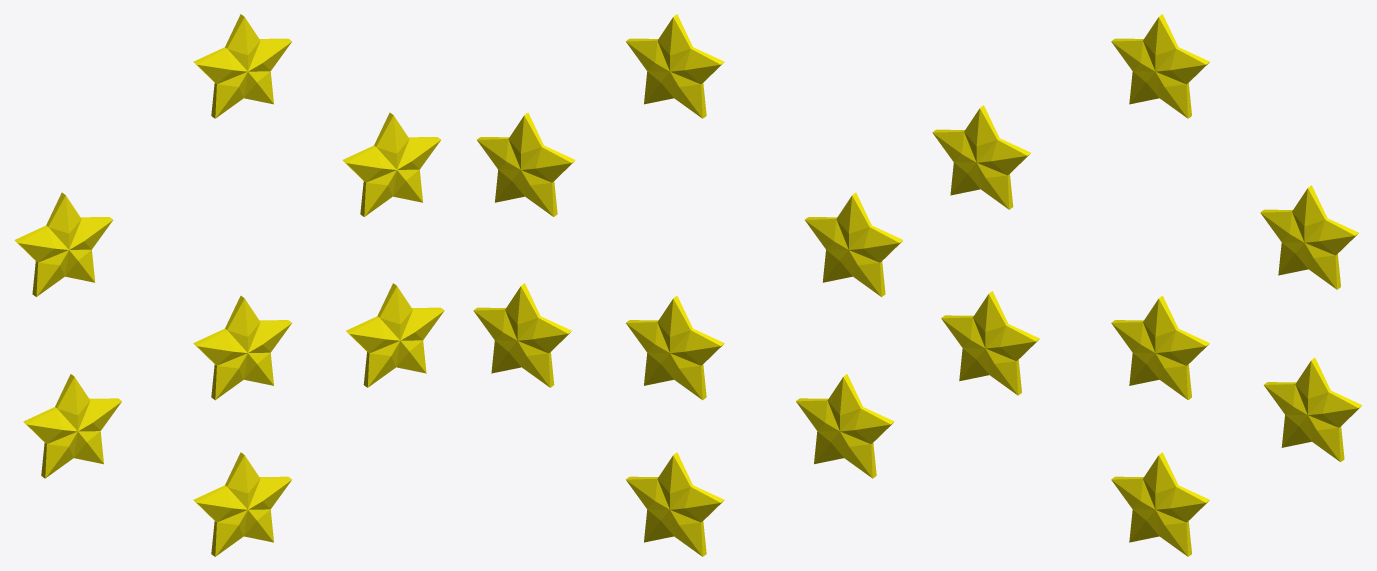
File: star.gltf
The picture shows the model from 3 angles, left to right: view 1: azimuth 30°, elevation 25°; view 2: azimuth 150°, elevation 25°; view 3: azimuth 330°, elevation 25°; orthographic projection.
Visible parts, largest first — view 1: SoftStar (5), SoftStar (6), SoftStar, SoftStar (3), SoftStar (1), SoftStar (4), SoftStar (2); view 2: SoftStar (5), SoftStar (6), SoftStar (3), SoftStar, SoftStar (1), SoftStar (4), SoftStar (2); view 3: SoftStar (1), SoftStar (4), SoftStar, SoftStar (5), SoftStar (2), SoftStar (6), SoftStar (3).
Part boxes in pixels (x1=…): SoftStar (5): x1=23, y1=374, x2=121, y2=478; SoftStar (6): x1=346, y1=283, x2=444, y2=387; SoftStar: x1=342, y1=112, x2=440, y2=216; SoftStar (3): x1=193, y1=296, x2=291, y2=400; SoftStar (1): x1=193, y1=14, x2=291, y2=118; SoftStar (4): x1=193, y1=452, x2=291, y2=556; SoftStar (2): x1=14, y1=192, x2=112, y2=296; SoftStar (5): x1=796, y1=374, x2=894, y2=478; SoftStar (6): x1=473, y1=283, x2=571, y2=387; SoftStar (3): x1=626, y1=296, x2=724, y2=400; SoftStar: x1=477, y1=112, x2=575, y2=216; SoftStar (1): x1=626, y1=14, x2=724, y2=118; SoftStar (4): x1=626, y1=452, x2=724, y2=556; SoftStar (2): x1=805, y1=192, x2=903, y2=296; SoftStar (1): x1=1111, y1=14, x2=1209, y2=118; SoftStar (4): x1=1111, y1=452, x2=1209, y2=556; SoftStar: x1=1260, y1=185, x2=1358, y2=289; SoftStar (5): x1=941, y1=291, x2=1039, y2=395; SoftStar (2): x1=932, y1=105, x2=1030, y2=209; SoftStar (6): x1=1264, y1=357, x2=1362, y2=461; SoftStar (3): x1=1111, y1=295, x2=1209, y2=399.
Size of the model in its own units: 0.6298 by 0.7519 by 0.027.
